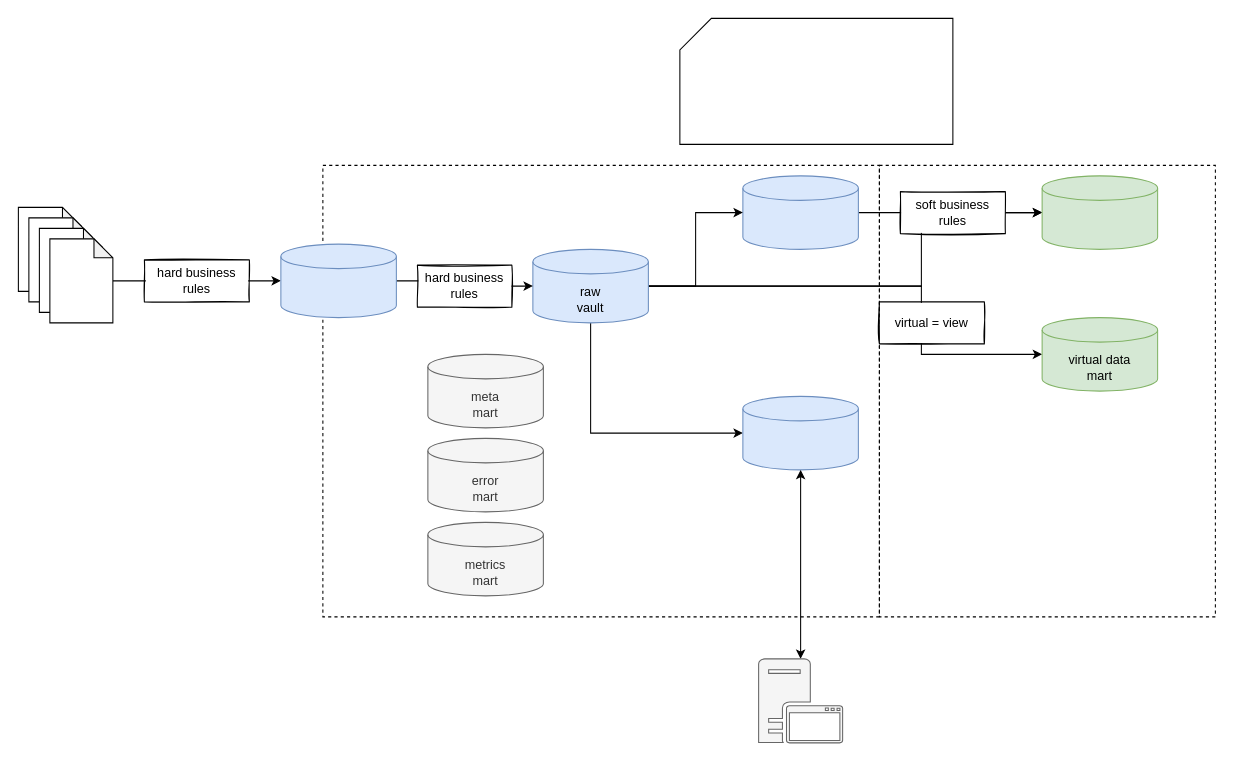
This 1234x761 diagram has some shape labels left out. The shapes that lost their labels are listed below. From the top down, each one's centre as x and y in pixels, then its label:
the point at 816,80: Data Vault - components and their integration
the point at 800,212: business vault
the point at 1099,212: data mart
the point at 338,280: staging
the point at 800,432: operational vault
